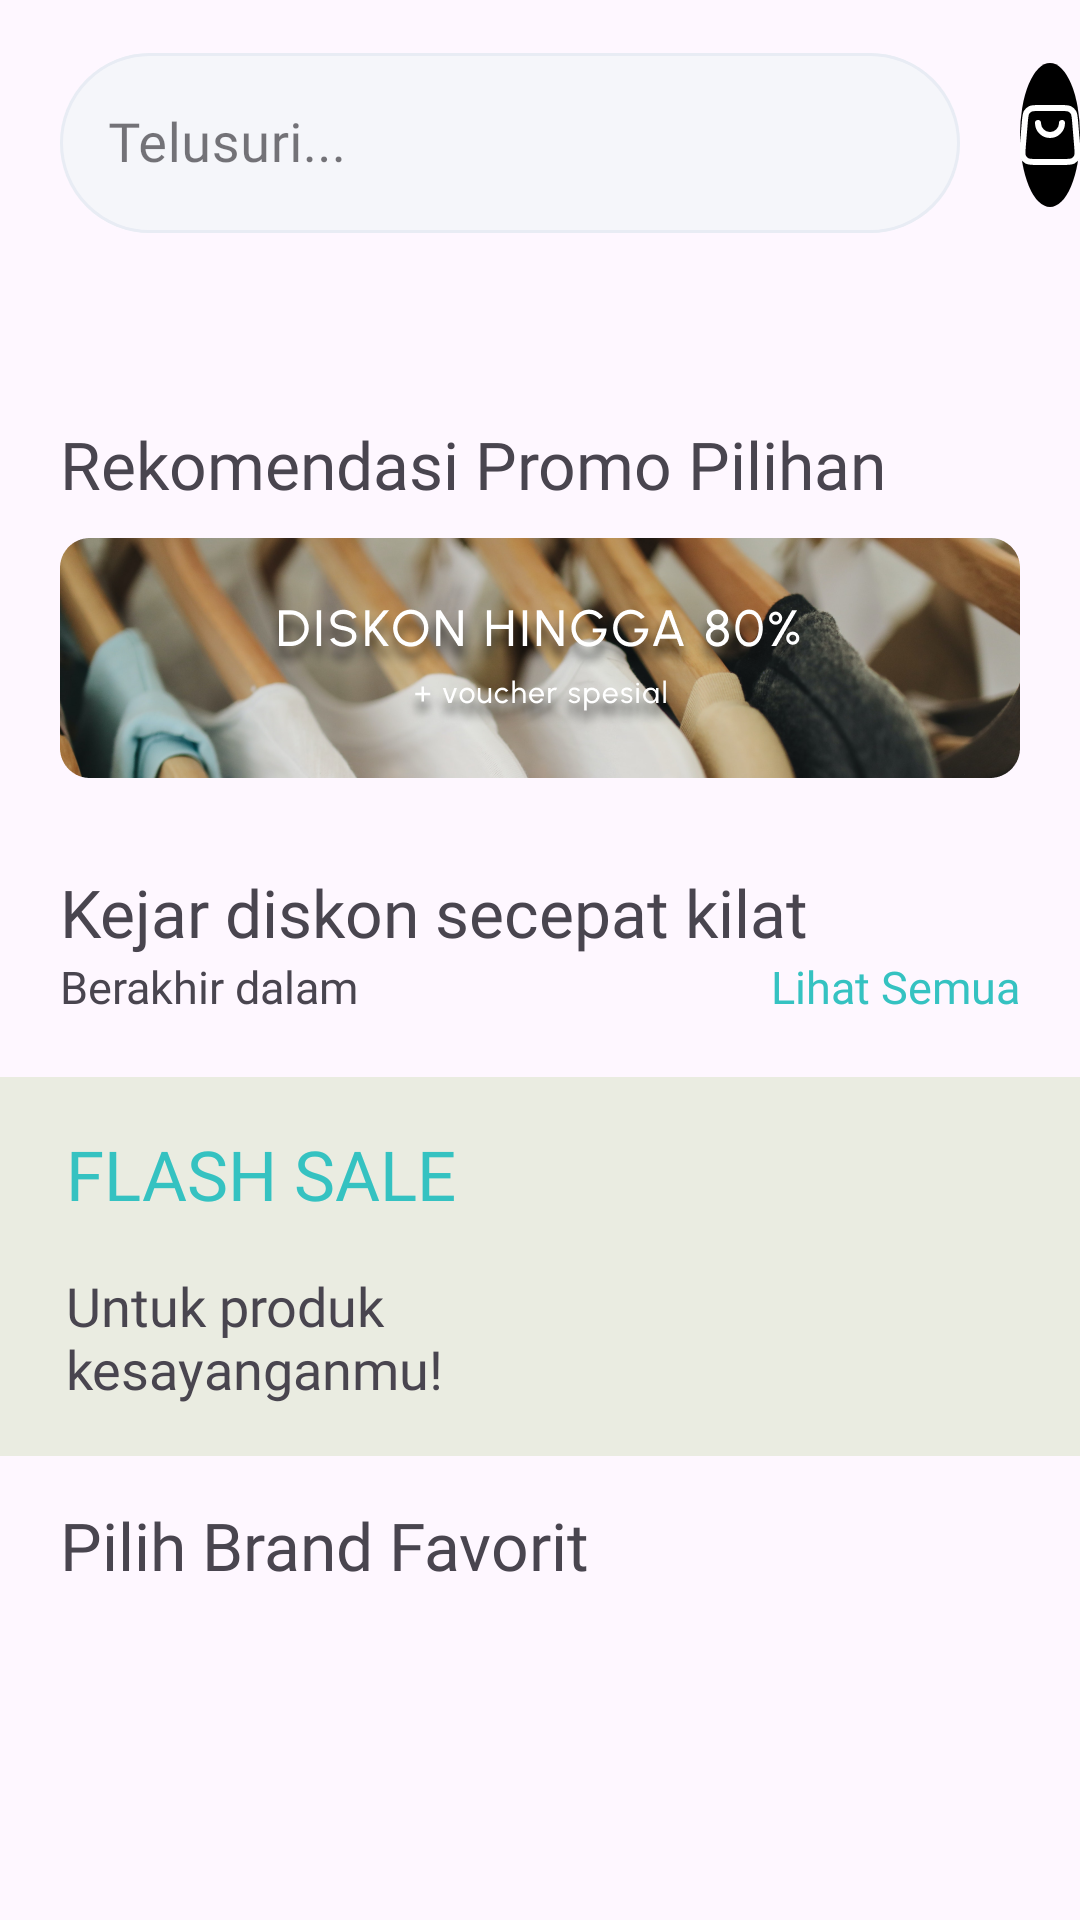

Icon bounding boxes for this 1080x1920 phone screenshot, format [x1=x1, y1=y1, x2=x2, y2=y2]:
Cart: [x1=1020, y1=63, x2=1080, y2=207]
